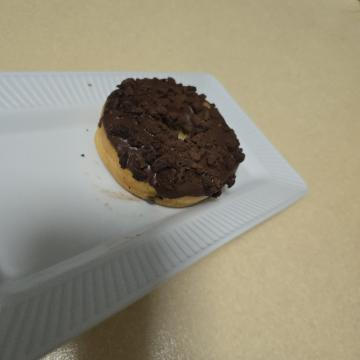doughnut: (64, 105, 223, 278)
